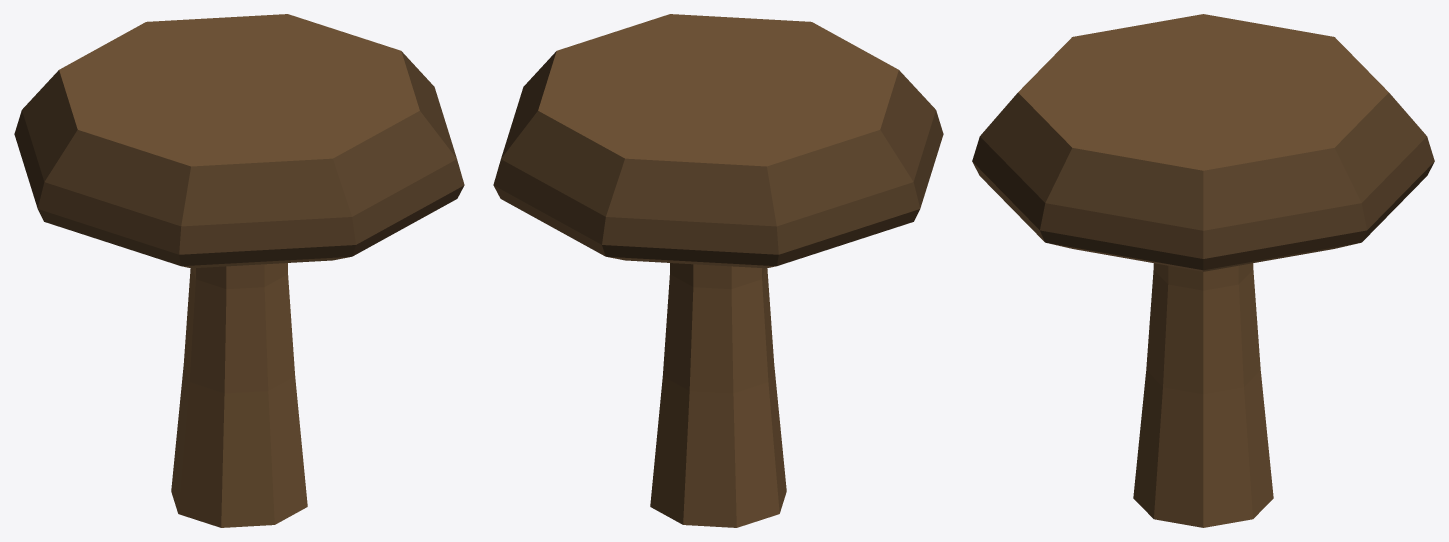
File: GiantMushroom.fbx
3 views of the same model, side by side, from view 1: azimuth 30°, elevation 25°; view 2: azimuth 150°, elevation 25°; view 3: azimuth 270°, elevation 25° (orthographic).
Visible parts, largest first — view 1: GiantMushroom; view 2: GiantMushroom; view 3: GiantMushroom.
Boxes of the visible parts, x1=… form: GiantMushroom: x1=14, y1=14, x2=464, y2=527; GiantMushroom: x1=493, y1=14, x2=943, y2=527; GiantMushroom: x1=972, y1=14, x2=1434, y2=527.
Size of the model in its own units: 1066 by 1032 by 1066.
